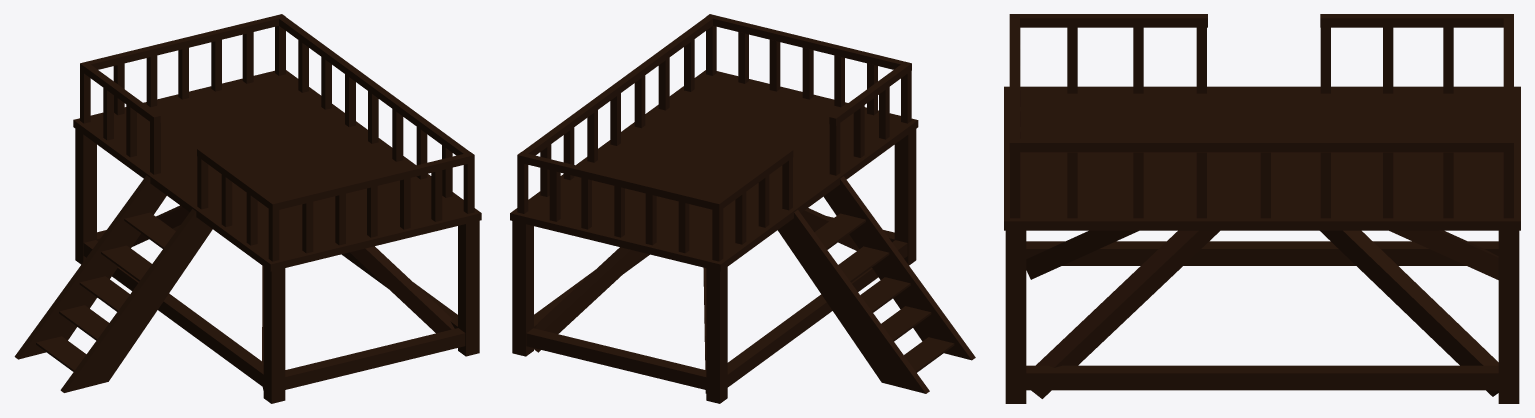
File: Execution stage.fbx
The picture shows the model from 3 angles, left to right: view 1: azimuth 30°, elevation 25°; view 2: azimuth 150°, elevation 25°; view 3: azimuth 270°, elevation 25°; orthographic projection. The views are drawn at different scales.
Visible parts, largest first — view 1: Box001; view 2: Box001; view 3: Box001.
Boxes of the visible parts, x1=… form: Box001: x1=14, y1=14, x2=481, y2=403; Box001: x1=510, y1=14, x2=975, y2=403; Box001: x1=1004, y1=14, x2=1520, y2=403.
Bounding box in the file's own units: 501 × 291 × 500.
